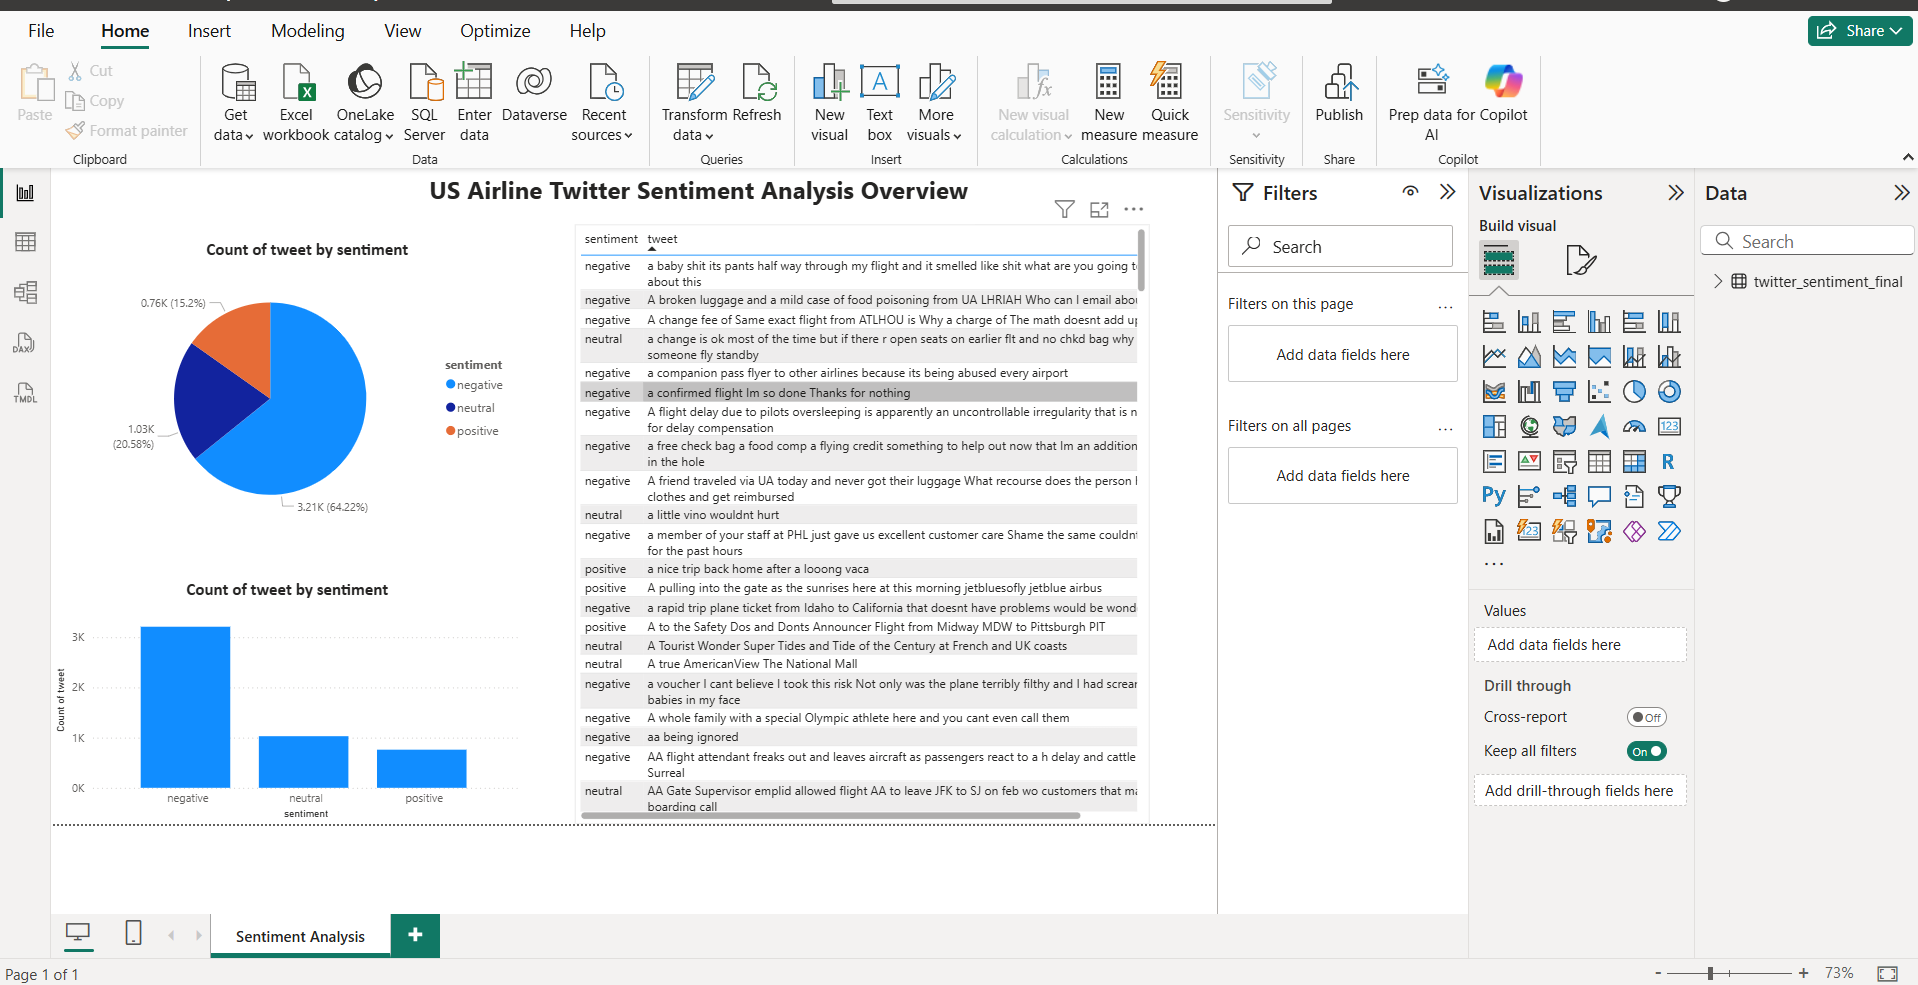

What the dashboard file says about the page in this screenshot:
{"tool":"powerbi","page":{"name":"Sentiment Analysis","canvas":[1280,720],"ordinal":0},"visuals":[{"type":"pieChart","fields":{"Category":["twitter_sentiment_final.sentiment"],"Y":["CountNonNull(twitter_sentiment_final.tweet)"]},"box":[43.9,78.2,474.8,328],"z":0},{"type":"columnChart","fields":{"Category":["twitter_sentiment_final.sentiment"],"Y":["CountNonNull(twitter_sentiment_final.tweet)"]},"box":[0,451.5,518.7,269],"z":1000},{"type":"tableEx","fields":{"Values":["twitter_sentiment_final.sentiment","twitter_sentiment_final.tweet"]},"box":[575,61.7,631.2,658.7],"z":2000},{"type":"textbox","box":[410.3,0,603.8,61.7],"z":3000}]}

Visuals, with their boxes on the page's 1280x720 design canvas (x1, y1, x2, y2). These are canvas units, not pixel positions in the 1918x985 screenshot, which may show the page scaled, cropped or inside an application window:
pieChart - twitter_sentiment_final.sentiment x CountNonNull(twitter_sentiment_final.tweet): (x1=44, y1=78, x2=519, y2=406)
columnChart - twitter_sentiment_final.sentiment x CountNonNull(twitter_sentiment_final.tweet): (x1=0, y1=452, x2=519, y2=720)
tableEx - twitter_sentiment_final.sentiment x twitter_sentiment_final.tweet: (x1=575, y1=62, x2=1206, y2=720)
textbox: (x1=410, y1=0, x2=1014, y2=62)
